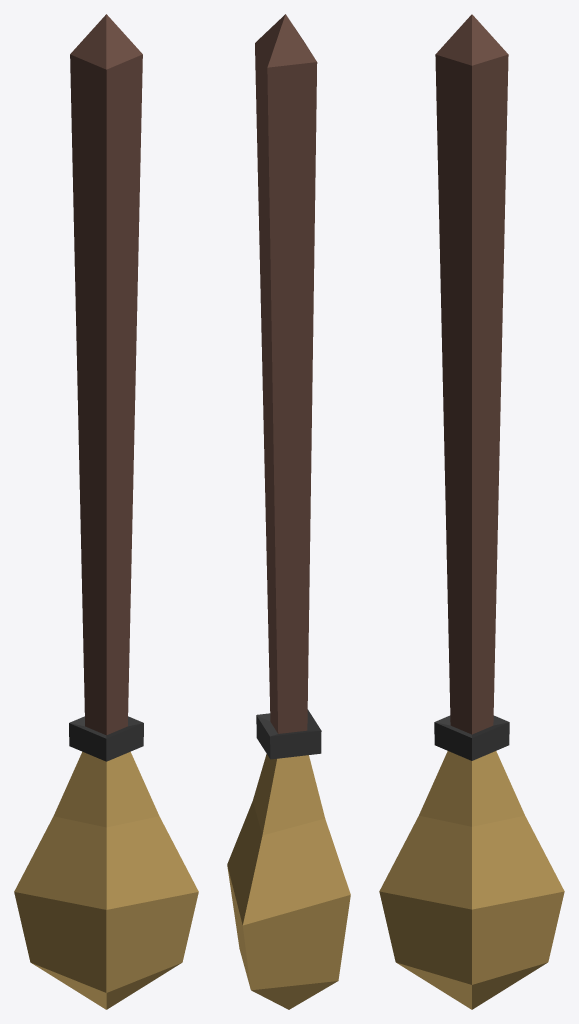
File: Broom.fbx
3 renders of one model, left to right at view 1: azimuth 90°, elevation 25°; view 2: azimuth 150°, elevation 25°; view 3: azimuth 270°, elevation 25°, orthographic.
Visible parts, largest first — view 1: Broom; view 2: Broom; view 3: Broom.
Boxes of the visible parts, x1=… form: Broom: x1=14, y1=14, x2=198, y2=1009; Broom: x1=227, y1=14, x2=350, y2=1009; Broom: x1=379, y1=14, x2=564, y2=1009.
Bounding box in the file's own units: 0.2468 × 1.9 × 0.3196.
